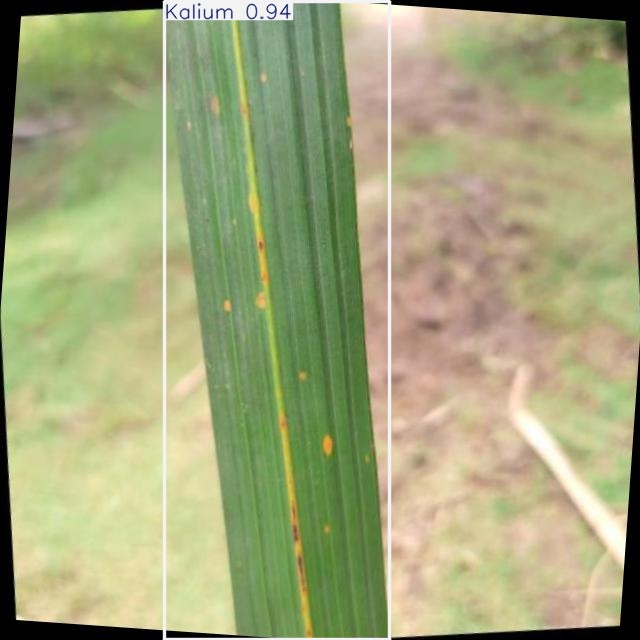Kalium: (165, 1, 390, 639)
